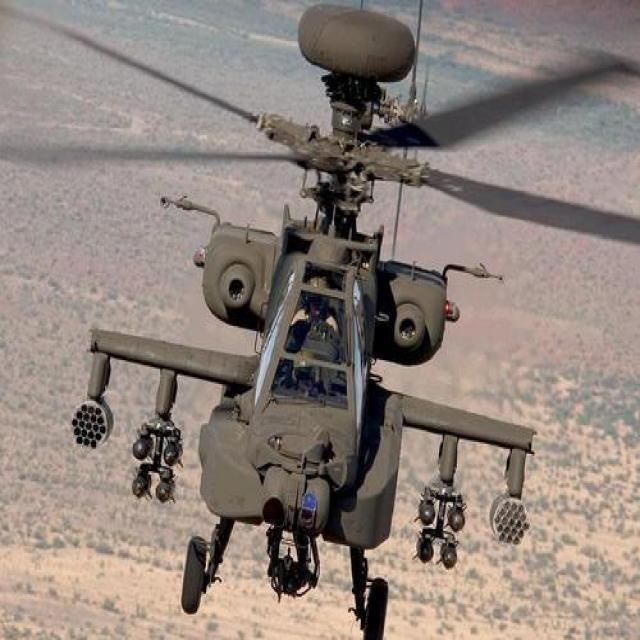MIL_HELO: (11, 0, 640, 635)
